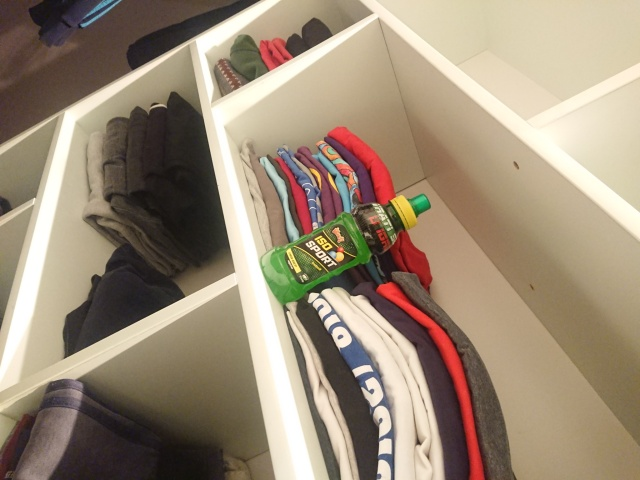Vindi Iso Sport Lemon-Grapefruit 500mL: (257, 191, 433, 307)
